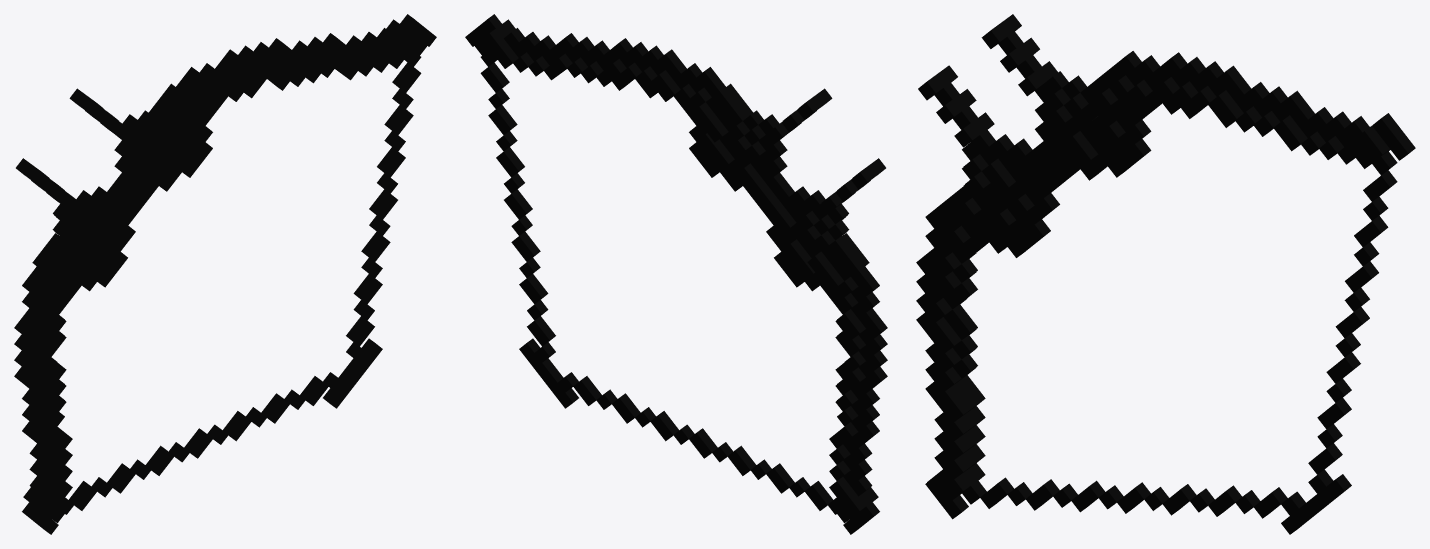
Rendered from chaotic_bow02.obj.
3 renders of one model, left to right at view 1: azimuth 30°, elevation 25°; view 2: azimuth 150°, elevation 25°; view 3: azimuth 330°, elevation 25°, orthographic. The views are drawn at different scales.
Visible parts, largest first — view 1: chaotic_bow02; view 2: chaotic_bow02; view 3: chaotic_bow02.
Boxes of the visible parts, left/top/right/bottom form: chaotic_bow02: left=14, top=14, right=436, bottom=534; chaotic_bow02: left=465, top=14, right=887, bottom=534; chaotic_bow02: left=916, top=14, right=1415, bottom=534.
Size of the model in its own units: 1.43 by 1.43 by 0.1875.
